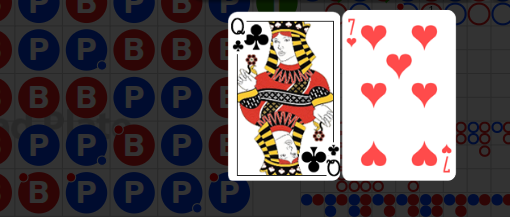7H: (346, 17, 359, 48)
QC: (295, 134, 339, 181), (228, 14, 272, 60)
